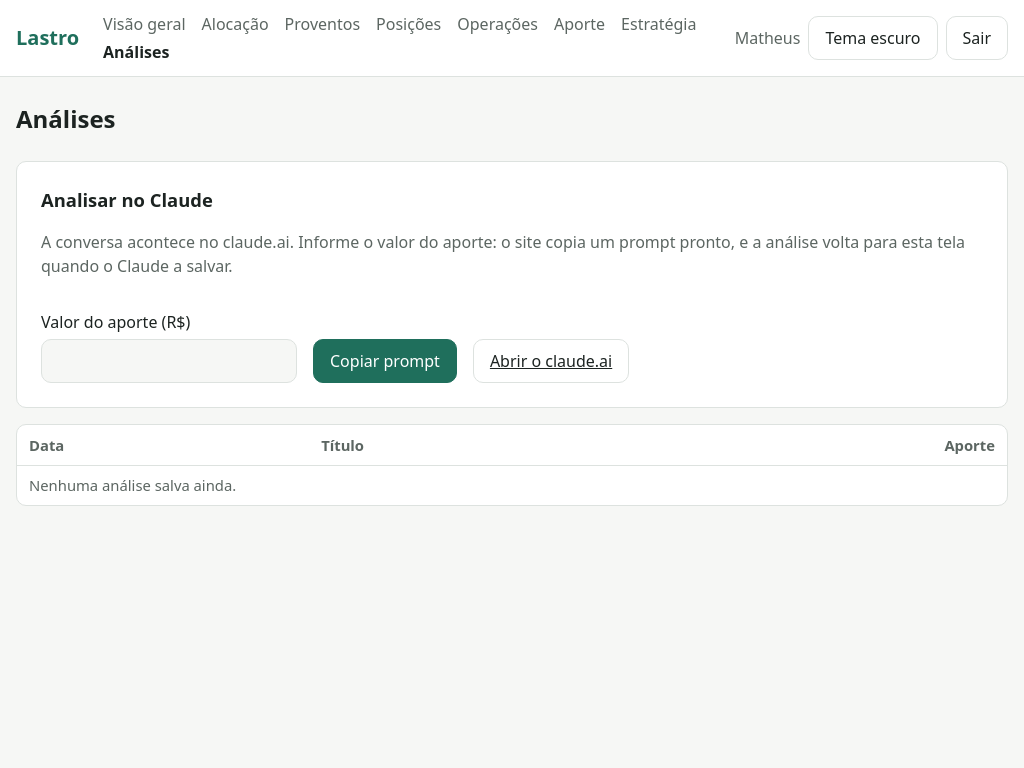
Test: AnalysesPage › copies a ready prompt for claude.ai with the contribution amount
In the field labelled "Valor do aporte (R$)": (169, 361) [41,339,297,383], type "2.500,00"
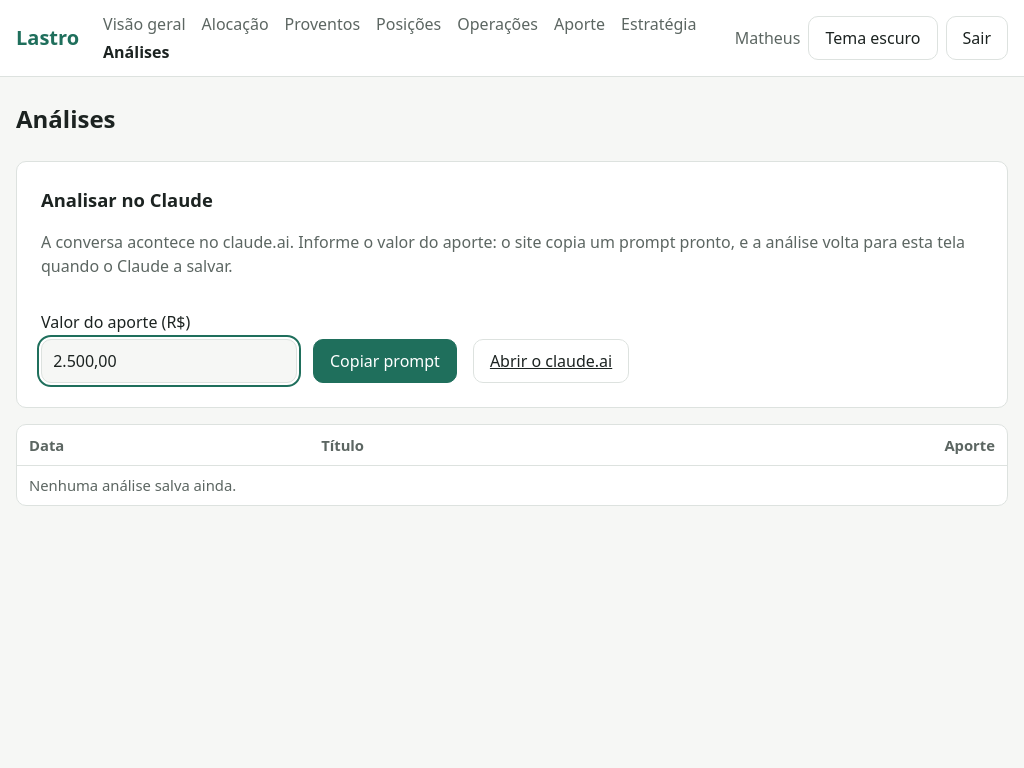
Click the button "Copiar prompt": (385, 361) [313,339,457,383]
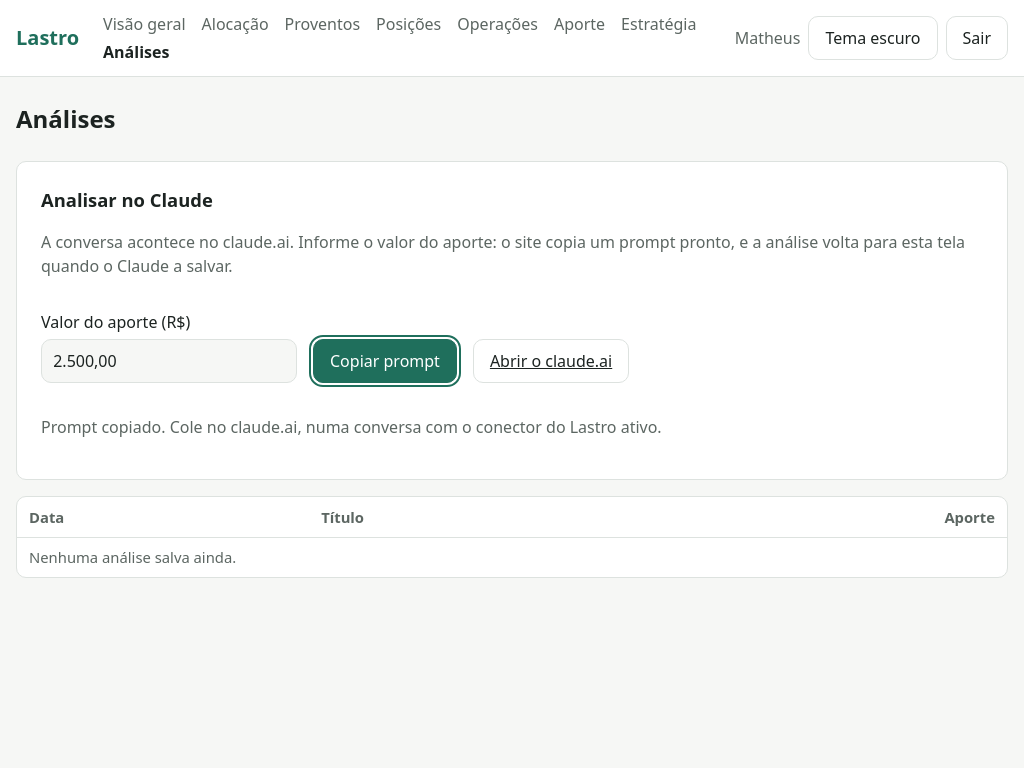
Check: the message shows "Prompt copiado", box [41,416,662,438]
